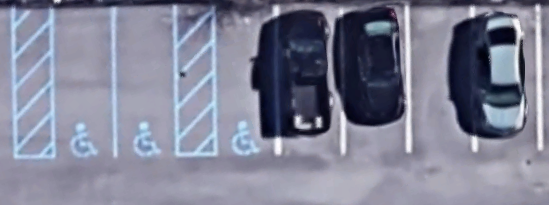Occupied: (276, 4, 345, 155), (473, 6, 540, 150), (343, 6, 407, 153)
Vacant: (407, 6, 475, 151), (214, 5, 278, 155), (52, 6, 115, 157), (114, 6, 177, 155)
